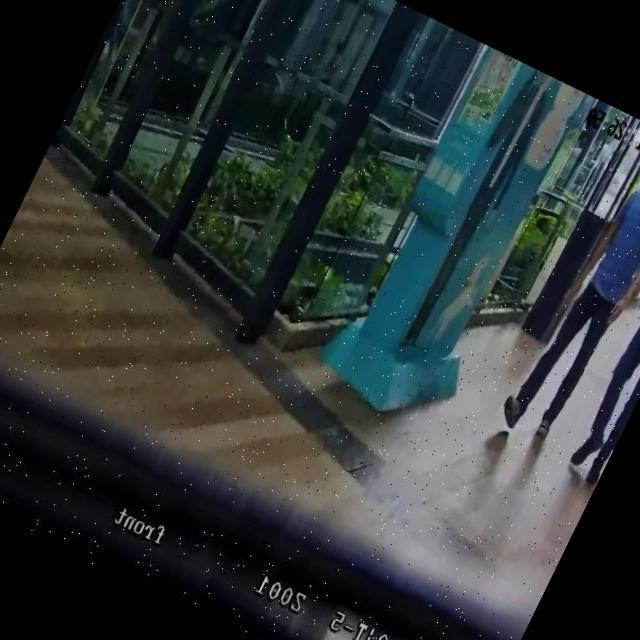person: (494, 124, 640, 455), (563, 157, 640, 486)
